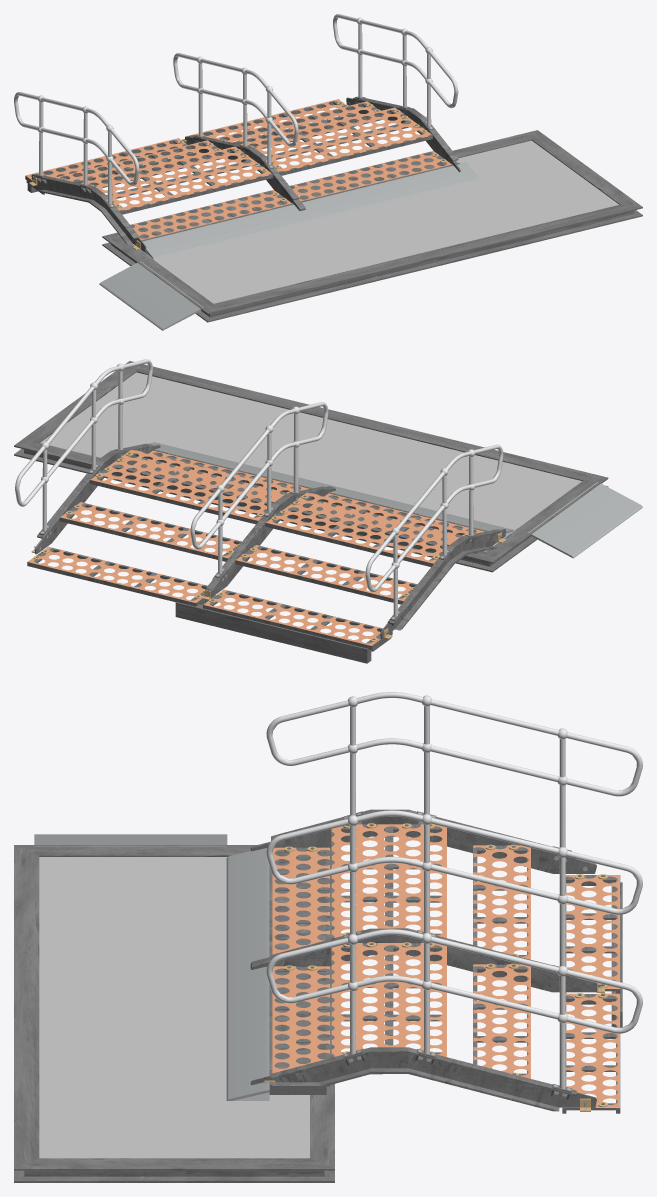
The model's file is Conning Floor.fbx.
The picture shows the model from 3 angles, top to bottom: view 1: azimuth 30°, elevation 25°; view 2: azimuth 150°, elevation 25°; view 3: azimuth 270°, elevation 25°; orthographic projection. The views are drawn at different scales.
Parts seen in each view (by area): view 1: grating, Girder29, Rail (×4), Stairs2_Stair5_mesh (×2), polySurface91, Frame (×8), Stair6 (×2), polySurface93, Stairs2_Main_beam3 (×2), SteelUnderStair, Stair (×2), Stair3 (×2) (+1 smaller); view 2: grating, Girder29, Frame (×8), Rail (×4), Stairs2_Stair5_mesh (×2), Stair3 (×2), Stairs2_Main_beam3 (×2), Stair (×2), polySurface93, pCube36, polySurface91, Stairs2_Main_beam5 (+2 smaller); view 3: grating, Rail (×5), Girder29, Stairs2_Stair5_mesh (×2), Stairs2_Main_beam3 (×2), polySurface91, Frame (×10), Stair (×2), Stair3 (×2), Stair6 (×2), SteelUnderStair, Stairs2_Main_beam5 (+2 smaller).
Boxes of the visible parts, x1,y1,x2,y2 form: grating: [132, 140, 618, 303]; Girder29: [102, 130, 642, 322]; Rail (×4): [14, 14, 458, 204]; Stairs2_Stair5_mesh (×2): [82, 107, 431, 210]; polySurface91: [142, 162, 479, 259]; Frame (×8): [25, 99, 432, 214]; Stair6 (×2): [132, 151, 451, 240]; polySurface93: [99, 261, 203, 330]; Stairs2_Main_beam3 (×2): [32, 97, 460, 251]; SteelUnderStair: [131, 154, 459, 241]; Stair (×2): [55, 101, 384, 185]; Stair3 (×2): [25, 99, 354, 180]; grating: [40, 372, 581, 551]; Girder29: [14, 361, 608, 572]; Frame (×8): [27, 449, 475, 651]; Rail (×4): [15, 359, 503, 616]; Stairs2_Stair5_mesh (×2): [90, 450, 468, 563]; Stair3 (×2): [28, 547, 379, 645]; Stairs2_Main_beam3 (×2): [34, 443, 505, 638]; Stair (×2): [60, 502, 412, 601]; polySurface93: [528, 482, 642, 558]; pCube36: [175, 602, 371, 663]; polySurface91: [148, 442, 513, 533]; Stairs2_Main_beam5: [205, 486, 335, 597]; grating: [39, 857, 309, 1158]; Rail (×5): [266, 692, 642, 1089]; Girder29: [14, 845, 334, 1182]; Stairs2_Stair5_mesh (×2): [331, 824, 446, 1056]; Stairs2_Main_beam3 (×2): [250, 809, 596, 1111]; polySurface91: [226, 848, 269, 1100]; Frame (×10): [274, 824, 620, 1113]; Stair (×2): [473, 845, 530, 1078]; Stair3 (×2): [562, 875, 619, 1107]; Stair6 (×2): [272, 847, 329, 1073]; SteelUnderStair: [269, 853, 326, 1094]; Stairs2_Main_beam5: [250, 928, 596, 992].
Size of what is drawn, in the model's own units: 615 by 167 by 464.
